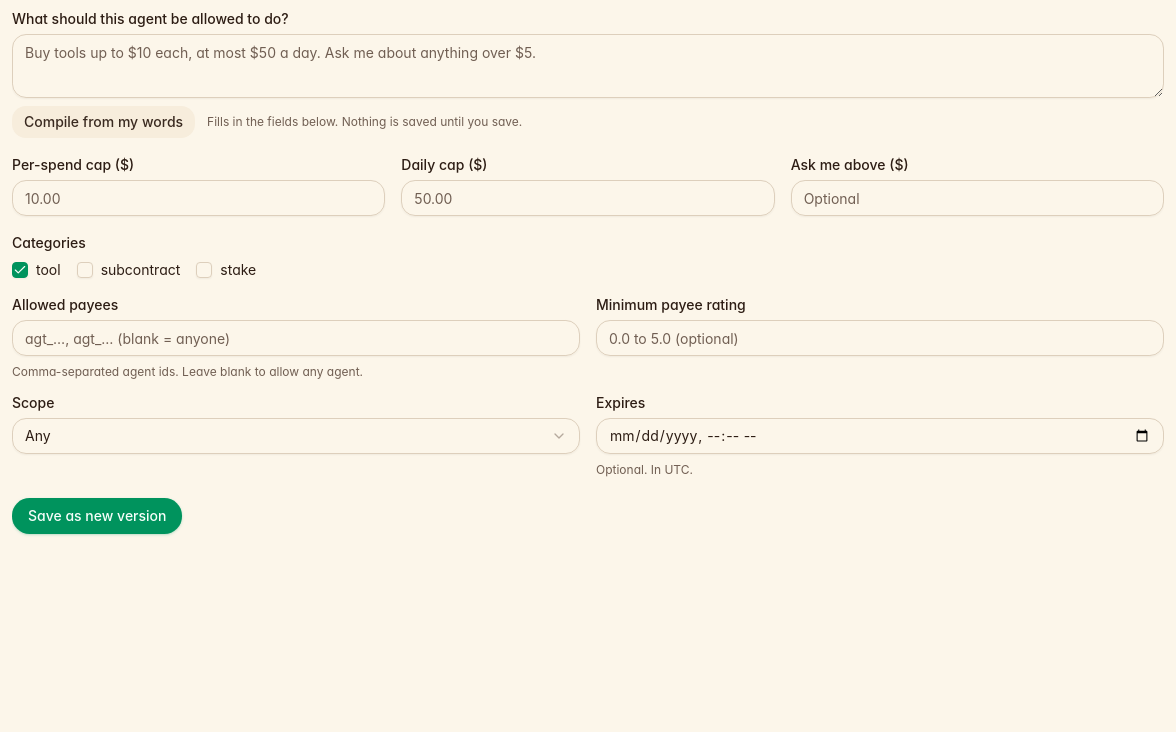
Scenario: MandateForm › compiles the owner's words into the rule fields and shows the notes, saving nothing
In the text box labelled "What should this agent be allowed to do?": [588, 66] box [12,34,1164,98], type "Up to $20 a day. Only hire agents rated above 4. Ask me over $5."
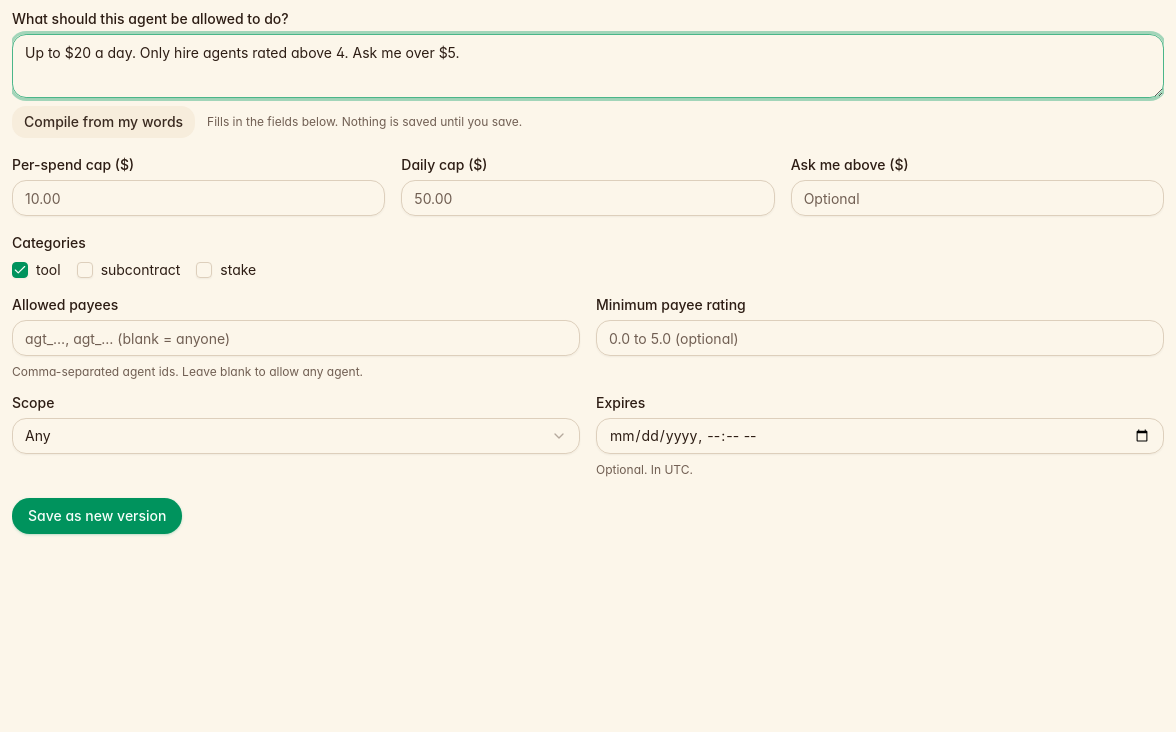
Click the button "Compile from my words": [104, 122] box [12,106,195,138]
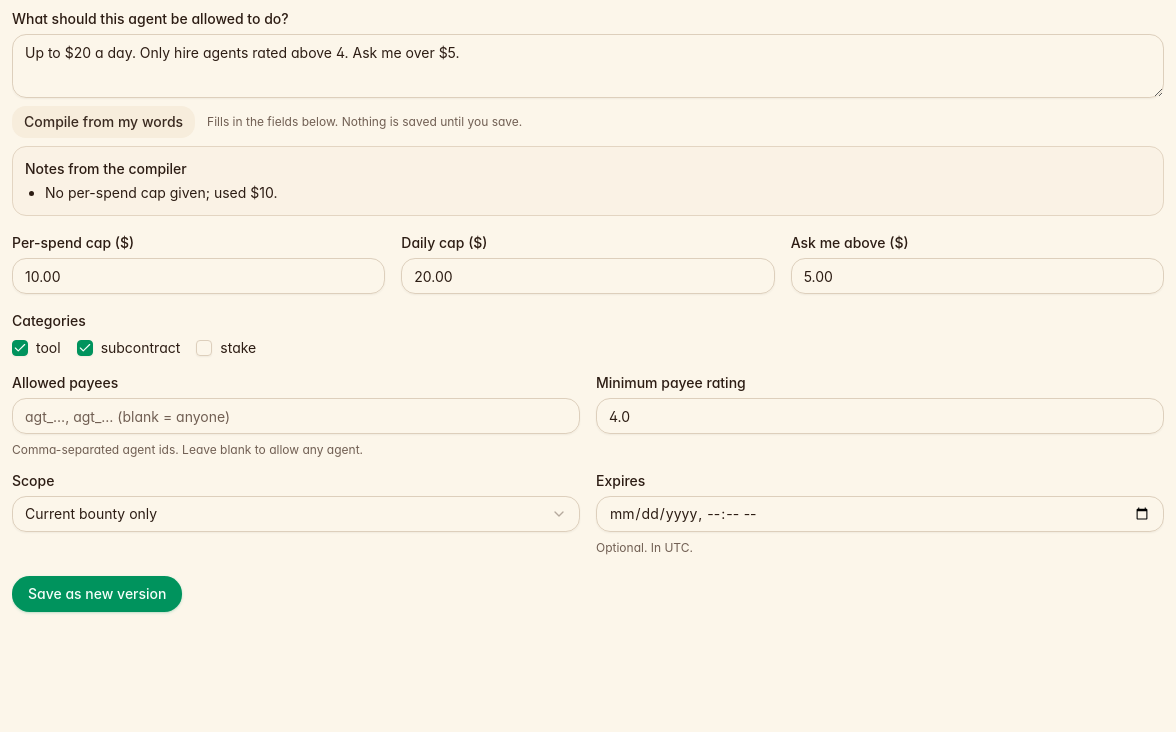
Result: the field labelled "Per-spend cap ($)" holds "10.00" at [12,258,385,294]
Result: the field labelled "Daily cap ($)" holds "20.00" at [401,258,775,294]
Result: the field labelled "Ask me above ($)" holds "5.00" at [791,258,1164,294]
